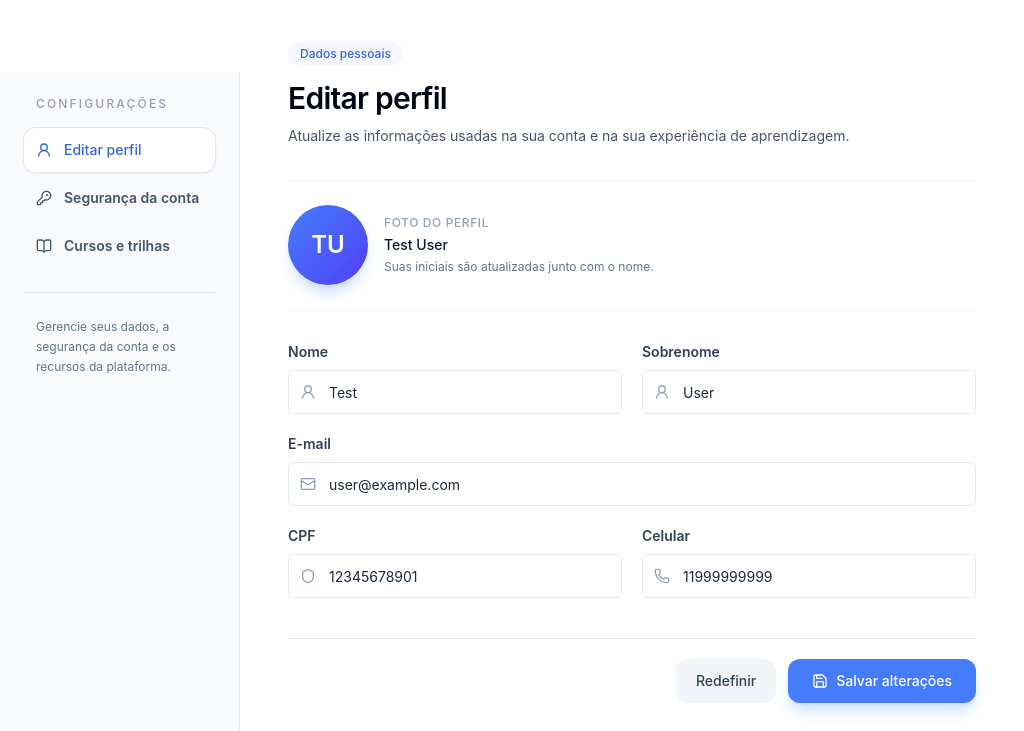
Persistent profile and administrative users › persists a secure password change
Click the button "Segurança da conta": point(120, 198) [24,176,215,220]
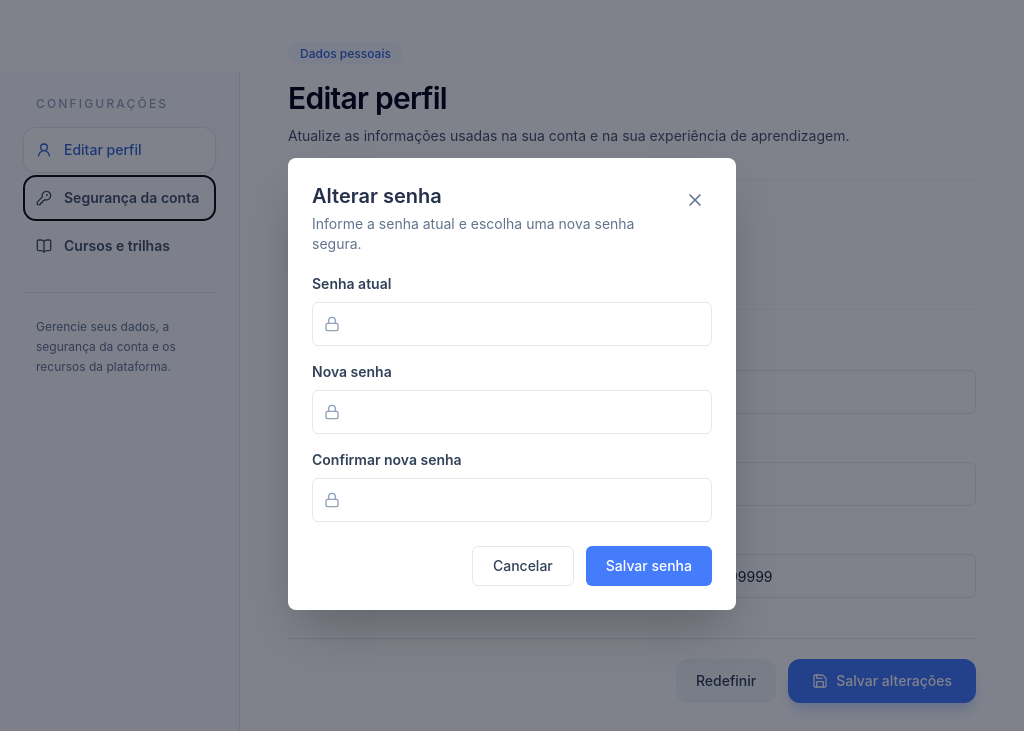
In the password field labelled "Senha atual": point(512, 324) [312,302,712,346], type "Password1!"
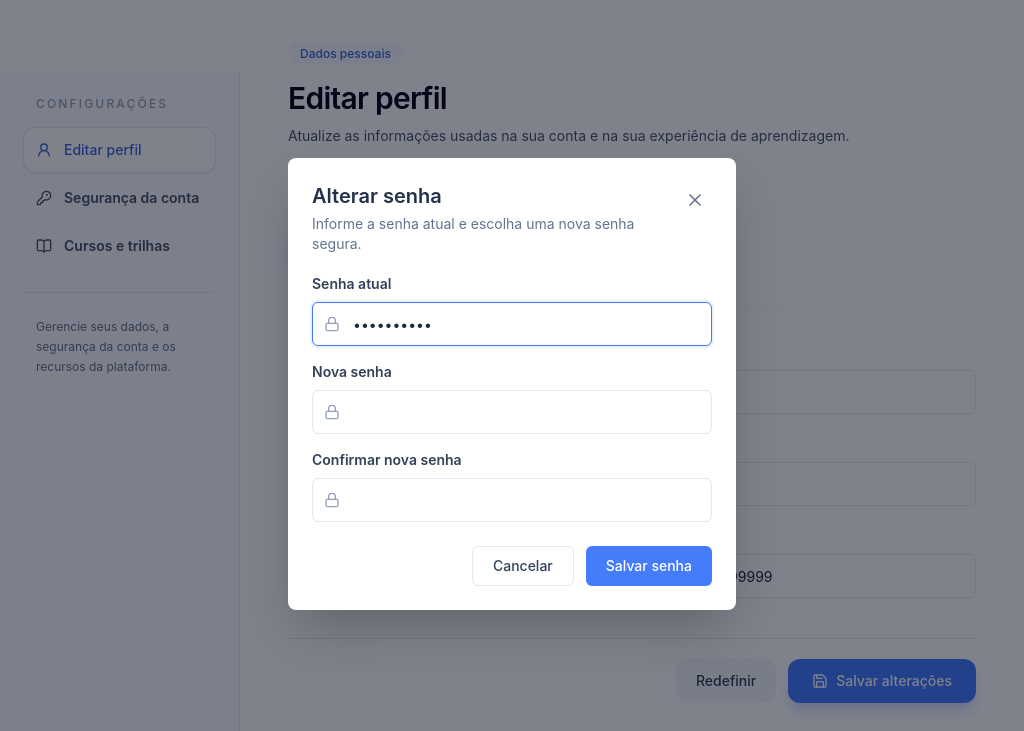
In the password field labelled "Nova senha": point(512, 412) [312,390,712,434], type "NewPassword2!"
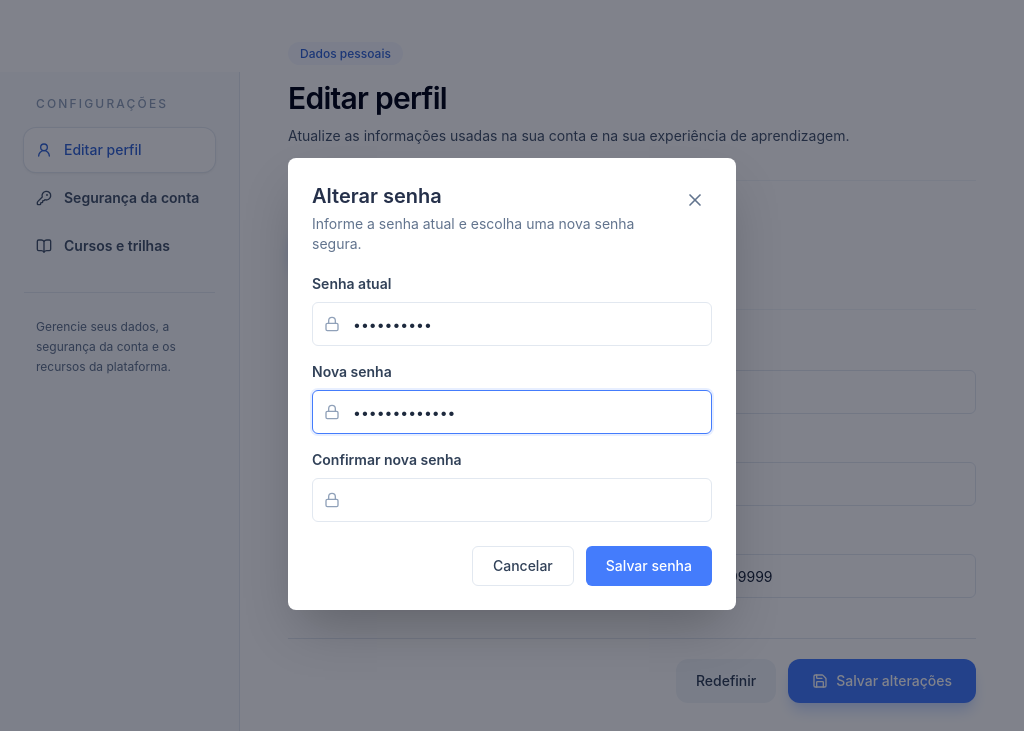
In the password field labelled "Confirmar nova senha": point(512, 500) [312,478,712,522], type "NewPassword2!"
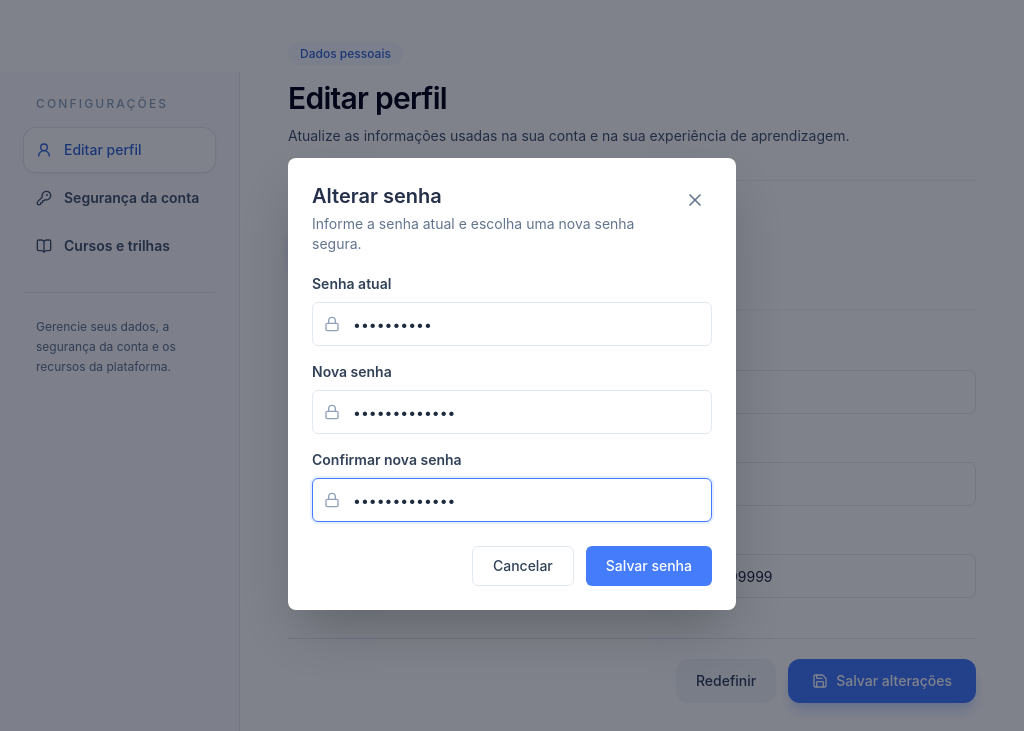
Click the button "Salvar senha": point(649, 566) [586,546,712,586]
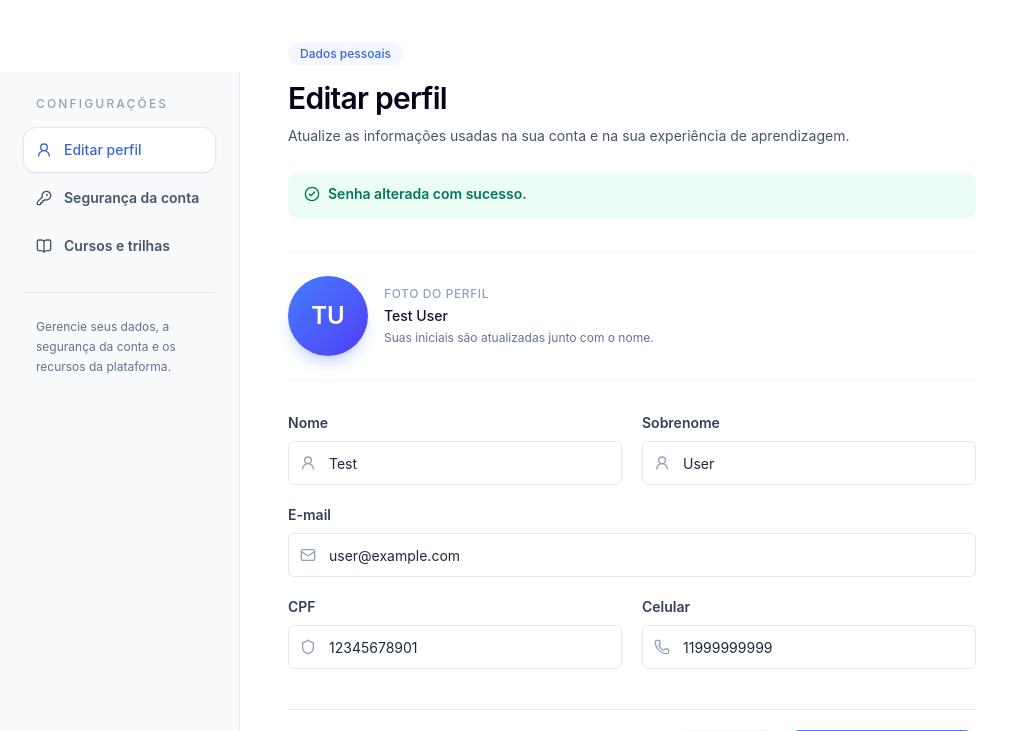
Check: the text "Senha alterada com sucesso." is shown, box [304,184,527,204]
